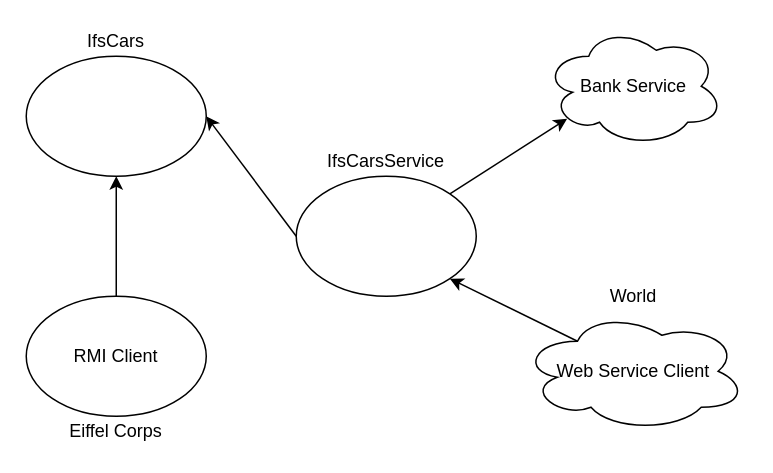
Some shapes in this 773 by 473 pixel diagram are drawn without their labels. The shapes that lost their labels are listed below. From the top down, each one's box as (x1, y1, x2, y2) in pixels, then its label:
(25, 55, 206, 176): RMI Server
(295, 175, 476, 296): RMI Client Web Service Server
